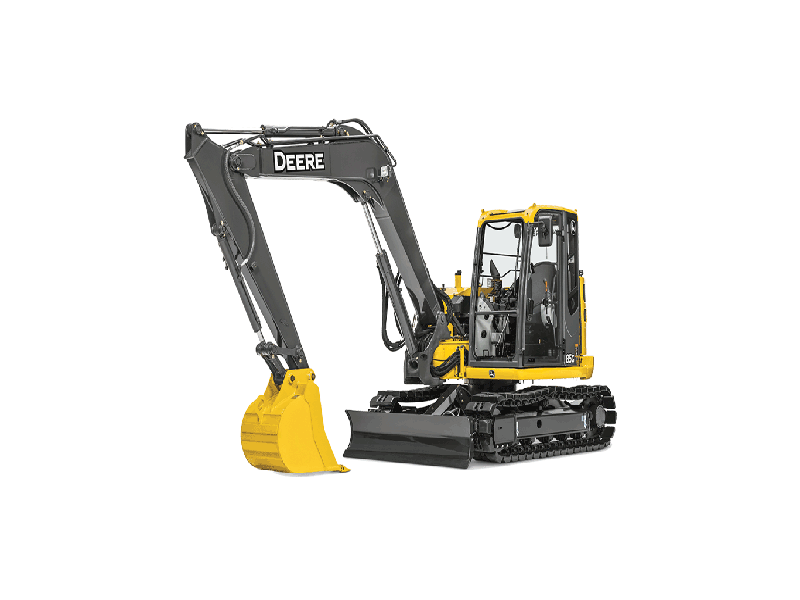shovel: (175, 106, 625, 486)
